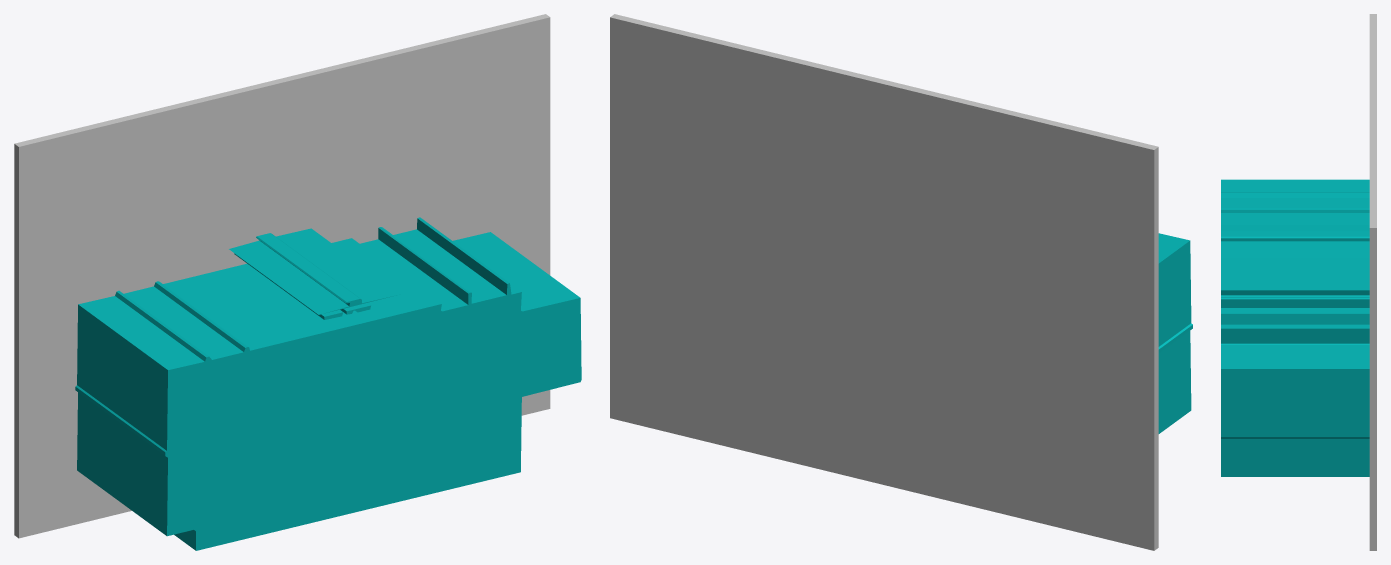
3 views of the same model, side by side, from view 1: azimuth 30°, elevation 25°; view 2: azimuth 150°, elevation 25°; view 3: azimuth 270°, elevation 25° (orthographic). The views are drawn at different scales.
Visible parts, largest first — view 1: world; view 2: world; view 3: world.
Part boxes in pixels (x1,y1,x2,y2): world: (14,14,581,550); world: (610,14,1192,550); world: (1221,14,1376,550).
Bounding box in the file's own units: 10.23 × 7.2 × 3.15.
